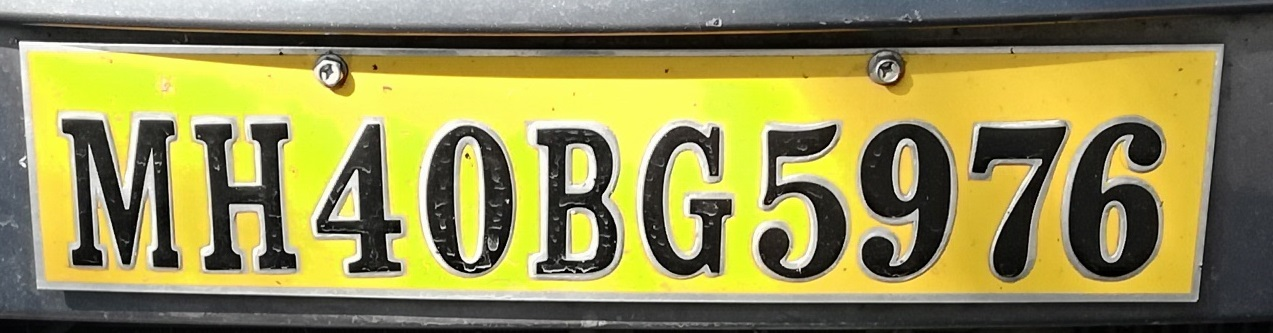numberplate: (13, 36, 1226, 309)
